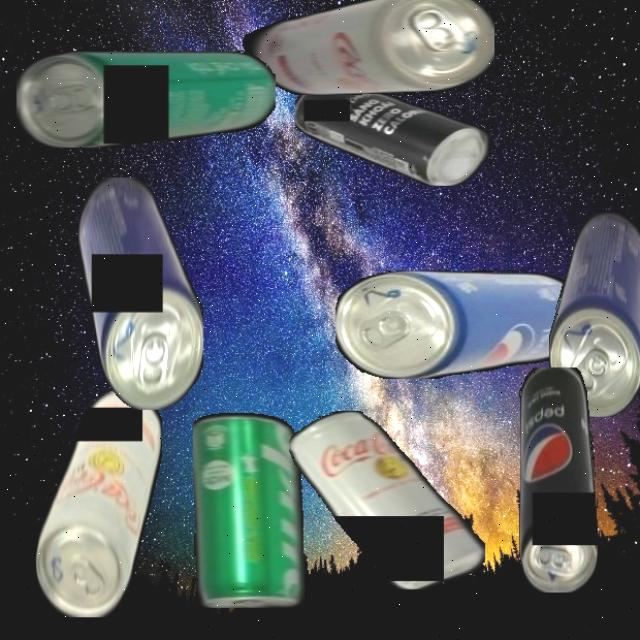debris: (289, 410, 485, 589), (78, 176, 204, 410), (34, 390, 162, 617), (336, 269, 584, 379), (17, 49, 276, 148), (236, 0, 494, 95), (193, 412, 305, 608), (295, 80, 498, 186), (548, 212, 640, 417), (518, 367, 598, 592)
